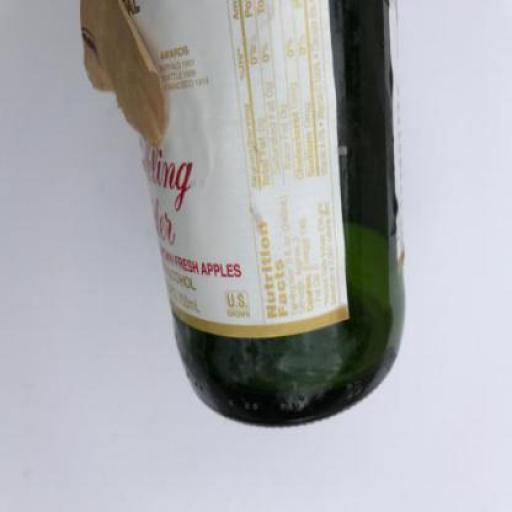glass: (126, 2, 404, 428)
